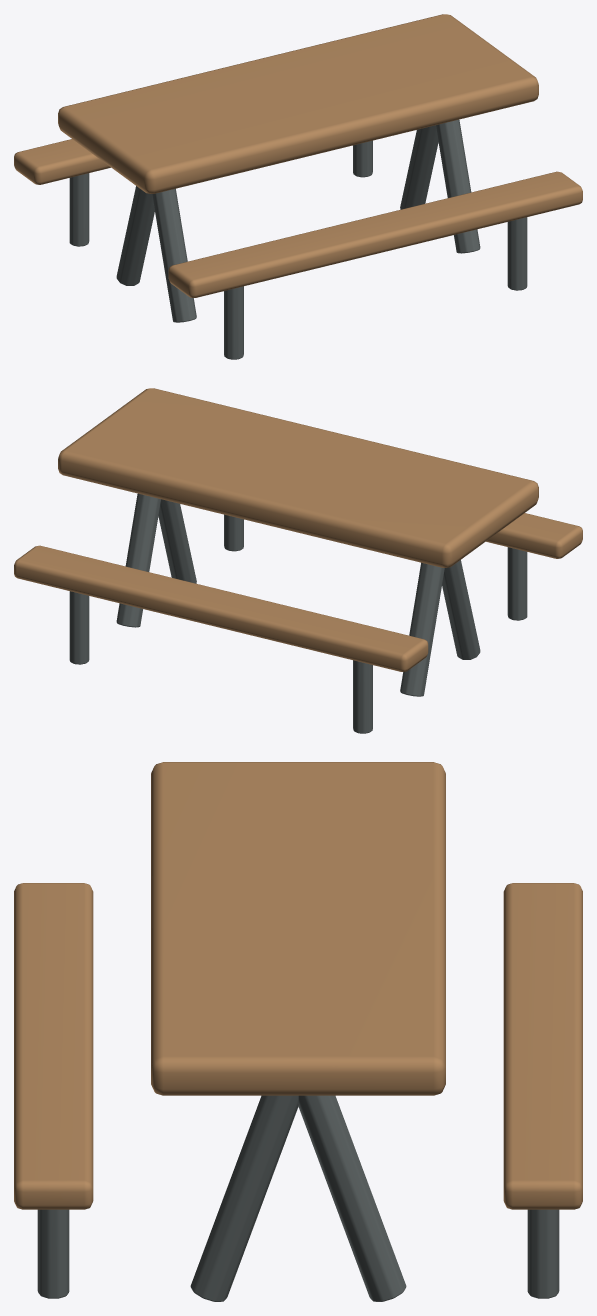
Rendered from table_pique_nique_baie_des_rois.glb.
3 renders of one model, top to bottom at view 1: azimuth 30°, elevation 25°; view 2: azimuth 150°, elevation 25°; view 3: azimuth 270°, elevation 25°, orthographic. The views are drawn at different scales.
Visible parts, largest first — view 1: Plateau_table, Banc_assise, Banc_assise.001, Pied_table_diagonal, Pied_table_diagonal.002, Pied_table_diagonal.001, Pied_table_diagonal.003, Pied_banc.001, Pied_banc.002, Pied_banc, Pied_banc.003; view 2: Plateau_table, Banc_assise.001, Banc_assise, Pied_table_diagonal.001, Pied_table_diagonal.003, Pied_table_diagonal, Pied_table_diagonal.002, Pied_banc.003, Pied_banc, Pied_banc.002, Pied_banc.001; view 3: Plateau_table, Banc_assise, Banc_assise.001, Pied_table_diagonal.002, Pied_table_diagonal.003, Pied_banc.001, Pied_banc.003.
Part boxes in pixels (box(x1,y1,x2,y2)): Plateau_table: box(58, 14, 538, 193); Banc_assise: box(168, 171, 582, 297); Banc_assise.001: box(14, 139, 110, 184); Pied_table_diagonal: box(152, 188, 196, 322); Pied_table_diagonal.002: box(436, 119, 480, 253); Pied_table_diagonal.001: box(116, 186, 154, 285); Pied_table_diagonal.003: box(400, 125, 438, 209); Pied_banc.001: box(507, 217, 527, 290); Pied_banc.002: box(69, 173, 89, 246); Pied_banc: box(224, 286, 243, 359); Pied_banc.003: box(353, 140, 372, 177); Plateau_table: box(58, 388, 538, 567); Banc_assise.001: box(14, 545, 428, 671); Banc_assise: box(486, 513, 582, 558); Pied_table_diagonal.001: box(400, 562, 444, 696); Pied_table_diagonal.003: box(116, 493, 160, 627); Pied_table_diagonal: box(442, 560, 480, 659); Pied_table_diagonal.002: box(158, 499, 196, 583); Pied_banc.003: box(69, 591, 89, 664); Pied_banc: box(507, 547, 527, 620); Pied_banc.002: box(353, 660, 372, 733); Pied_banc.001: box(224, 514, 243, 551); Plateau_table: box(151, 762, 445, 1095); Banc_assise: box(14, 883, 93, 1209); Banc_assise.001: box(503, 883, 582, 1209); Pied_table_diagonal.002: box(190, 1095, 298, 1301); Pied_table_diagonal.003: box(298, 1095, 406, 1301); Pied_banc.001: box(37, 1209, 69, 1298); Pied_banc.003: box(527, 1209, 559, 1298).
Bounding box in the file's own units: 2 × 0.8556 × 1.58.
